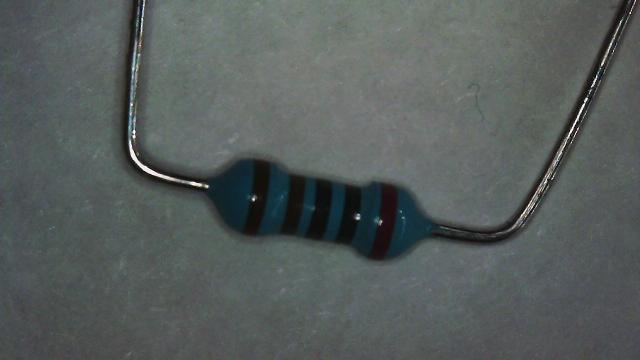black: (335, 186, 362, 244), (306, 179, 332, 239)
brown: (242, 160, 270, 234), (281, 174, 305, 234)
red: (369, 184, 398, 260)
resistor: (186, 117, 461, 286)
